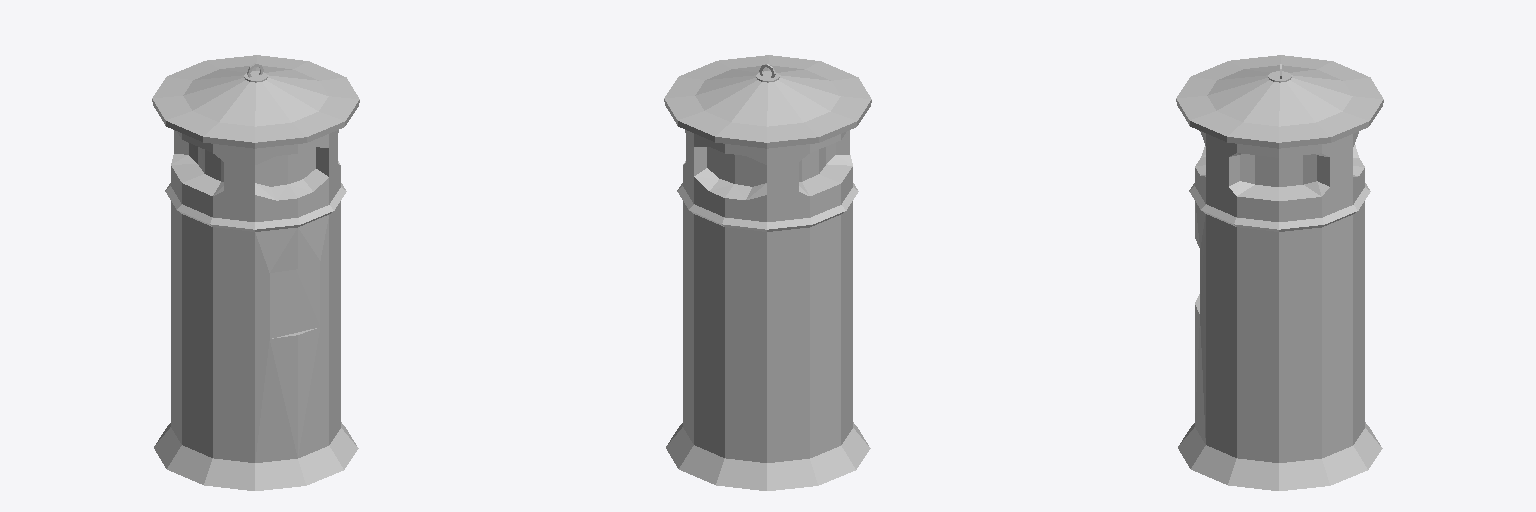
Rendered from trashcan.obj.
3 renders of one model, left to right at view 1: azimuth 30°, elevation 25°; view 2: azimuth 150°, elevation 25°; view 3: azimuth 270°, elevation 25°, orthographic.
Visible parts, largest first — view 1: TrashCan; view 2: TrashCan; view 3: TrashCan.
Boxes of the visible parts, box(x1,y1,x2,y2) form: TrashCan: box(152, 55, 359, 490); TrashCan: box(664, 55, 871, 490); TrashCan: box(1176, 55, 1383, 490).
Size of the model in its own units: 0.6099 by 1.24 by 0.6099.